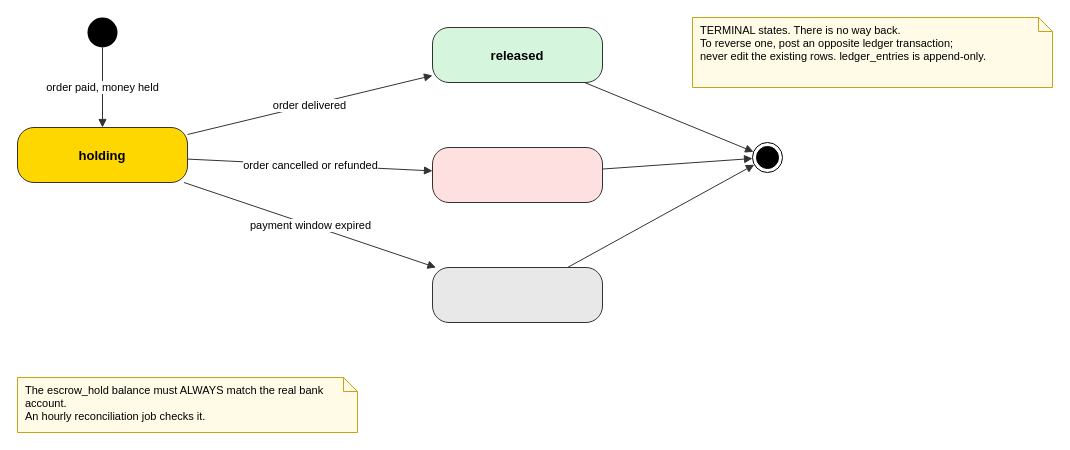
The diagram is 1070 pixels wide and 450 high, and some of its shapes have lost their labels. Each missing label, with the box of its shape:
cancelled: (432, 266, 602, 322)
refunded: (432, 146, 602, 202)
